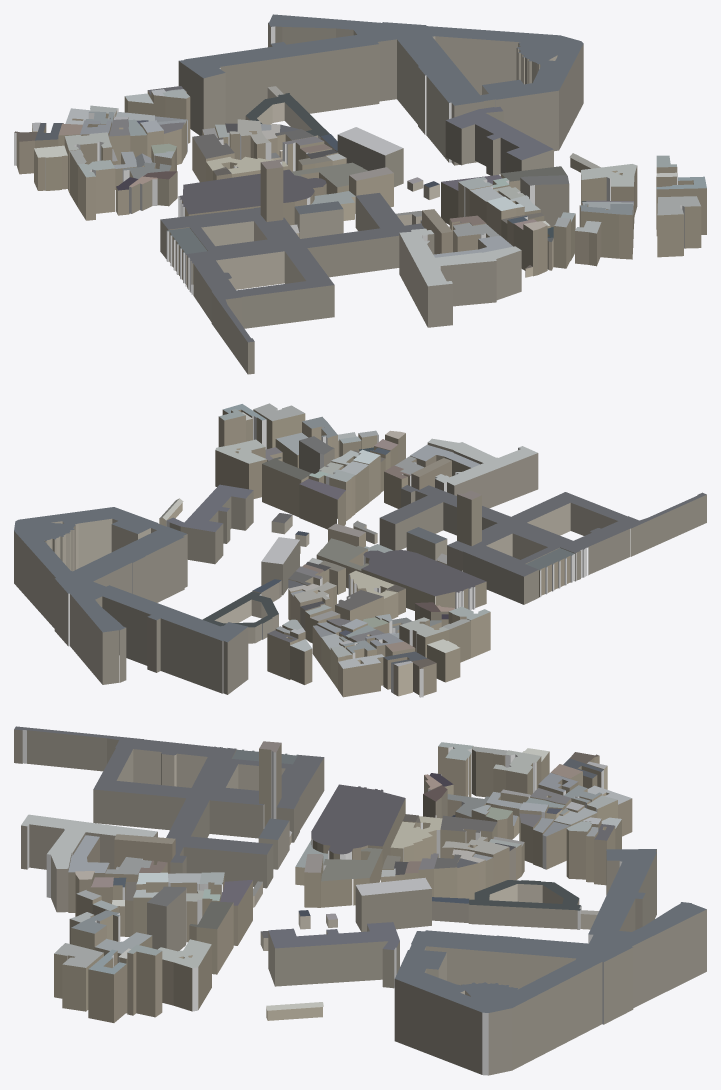
3 renders of one model, top to bottom at view 1: azimuth 30°, elevation 25°; view 2: azimuth 150°, elevation 25°; view 3: azimuth 270°, elevation 25°, orthographic. The views are drawn at different scales.
Parts seen in each view (by area): view 1: tuile; view 2: tuile; view 3: tuile.
Part boxes in pixels (bbox=[...]): tuile: bbox=[14, 14, 706, 374]; tuile: bbox=[14, 403, 706, 697]; tuile: bbox=[14, 726, 706, 1075].
Size of the model in its own units: 315 by 61.23 by 323.
